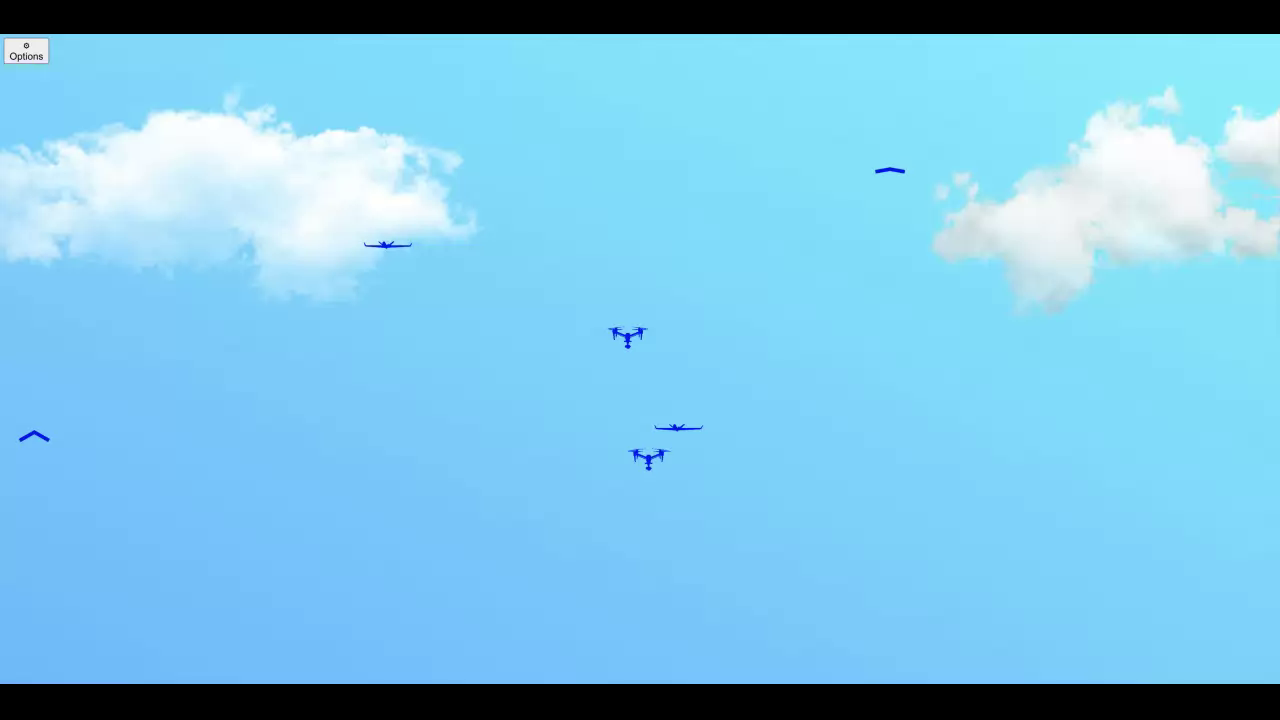Bird: (856, 148, 922, 184), (11, 416, 70, 455)
Drone: (644, 416, 730, 446), (352, 228, 417, 258)
Quadcopter: (611, 435, 682, 476), (594, 313, 656, 359)
